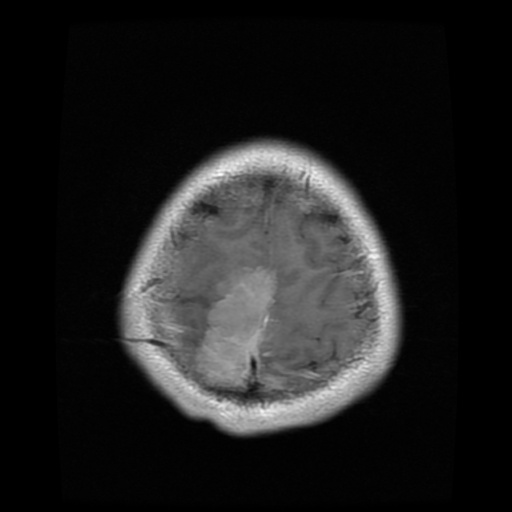meningioma: (196, 267, 275, 389)
